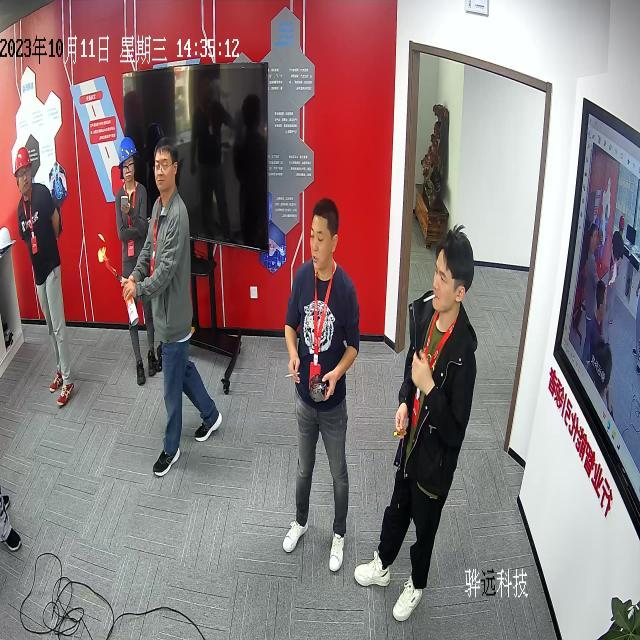Fire: (98, 249, 116, 275)
